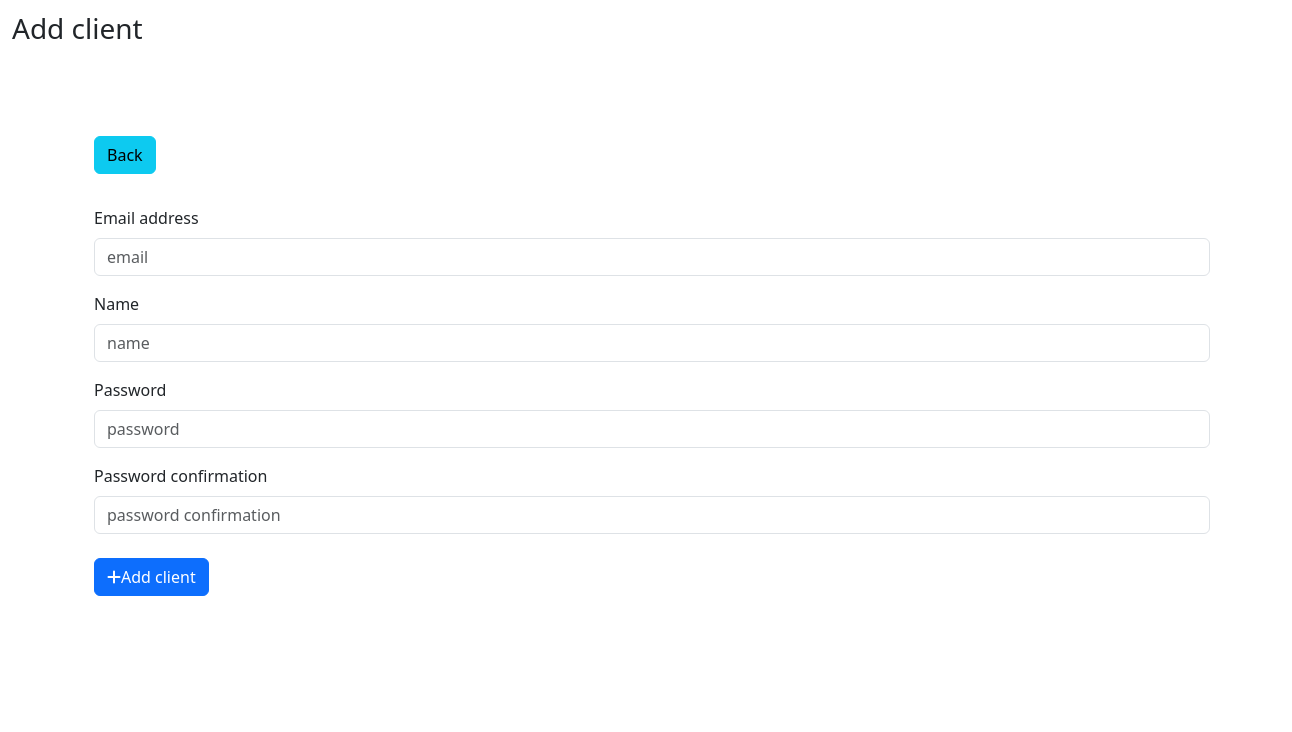
Test case: User edit page › Interactions › add client by click
Type "aaaabb@example.com" into the field with placeholder "Email" at (652, 257), box [94,238,1210,276]
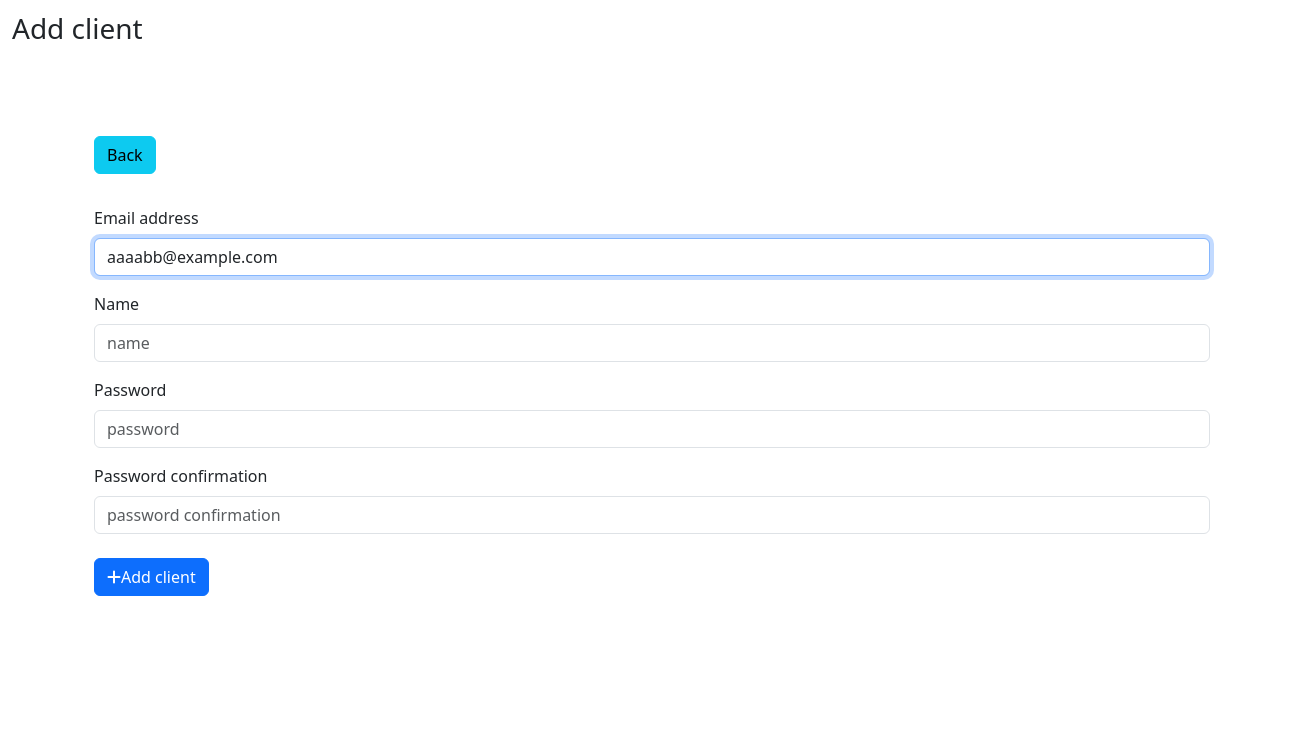
Type "aaaaaaaaaaaaa" into the field with placeholder "Name" at (652, 343), box [94,324,1210,362]
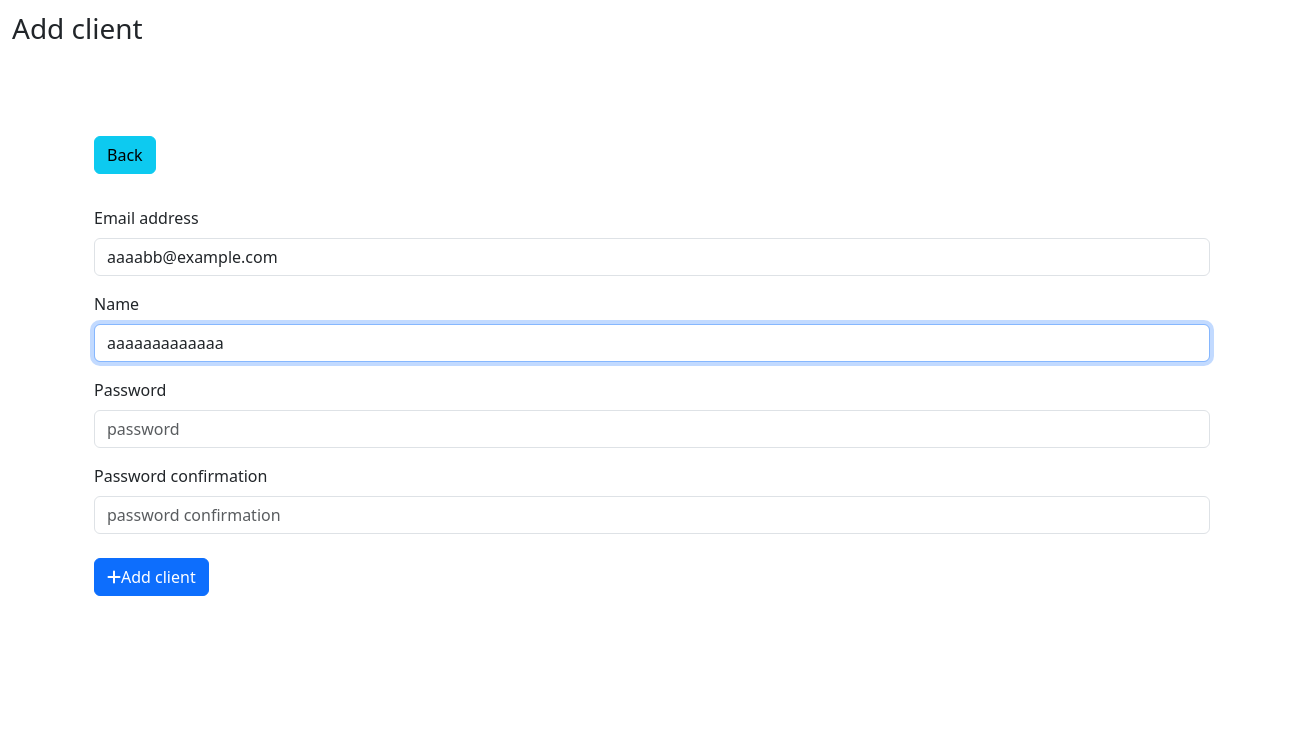
Type "abc2" into the password field with placeholder "Password" at (652, 429), box [94,410,1210,448]
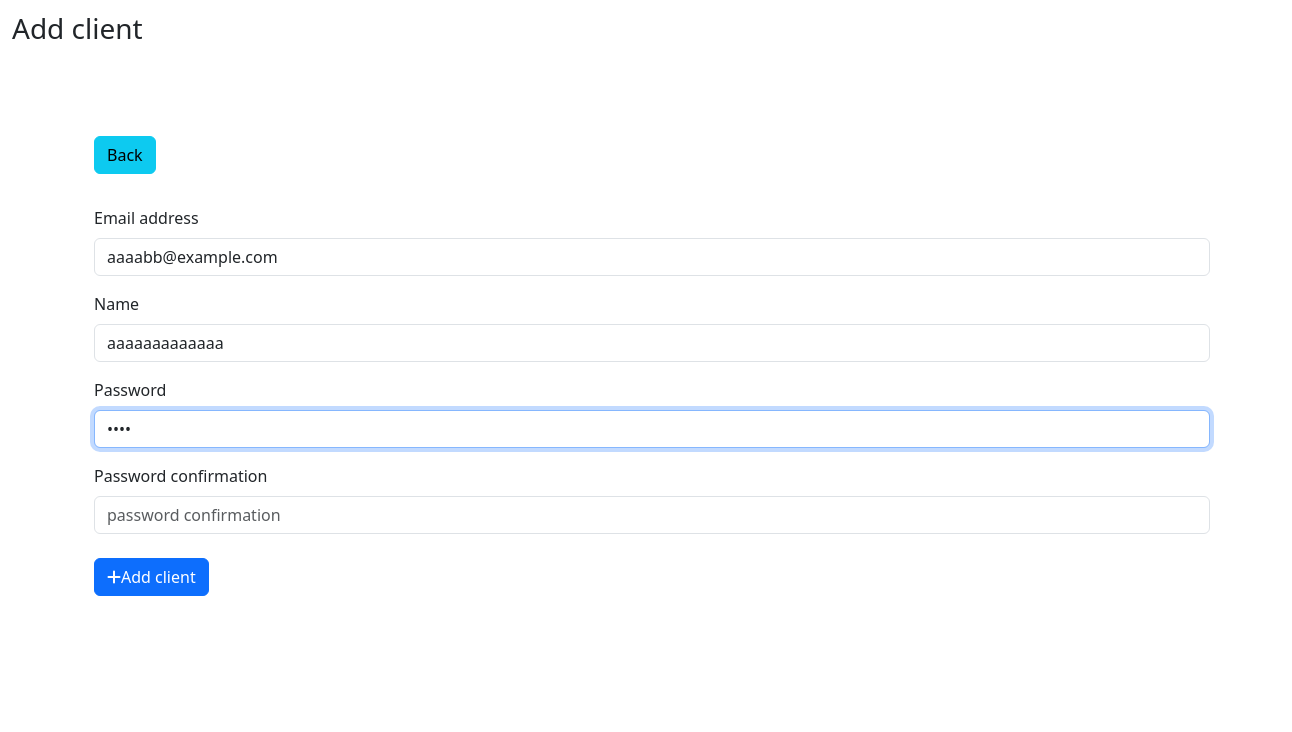
Type "abc2" into the password field with placeholder "Password confirmation" at (652, 515), box [94,496,1210,534]
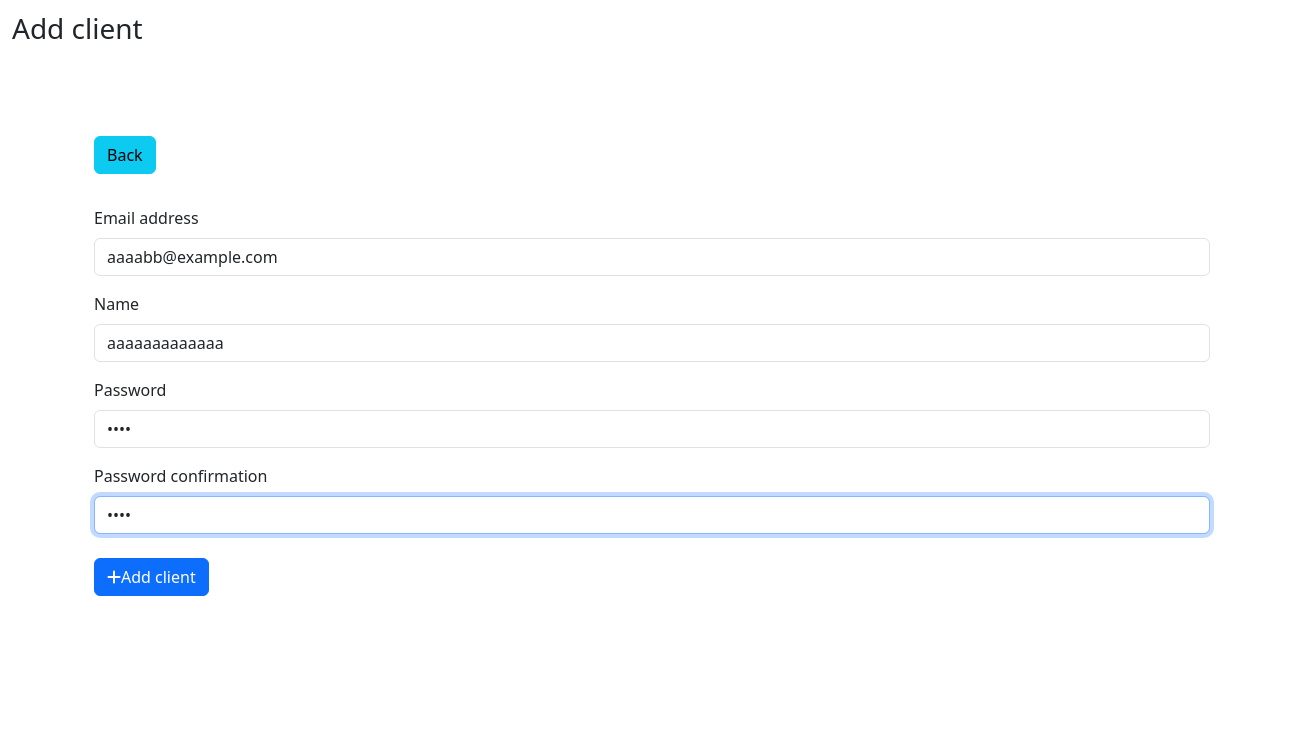
Click the button "Add client" at (151, 577), box [94,558,209,596]
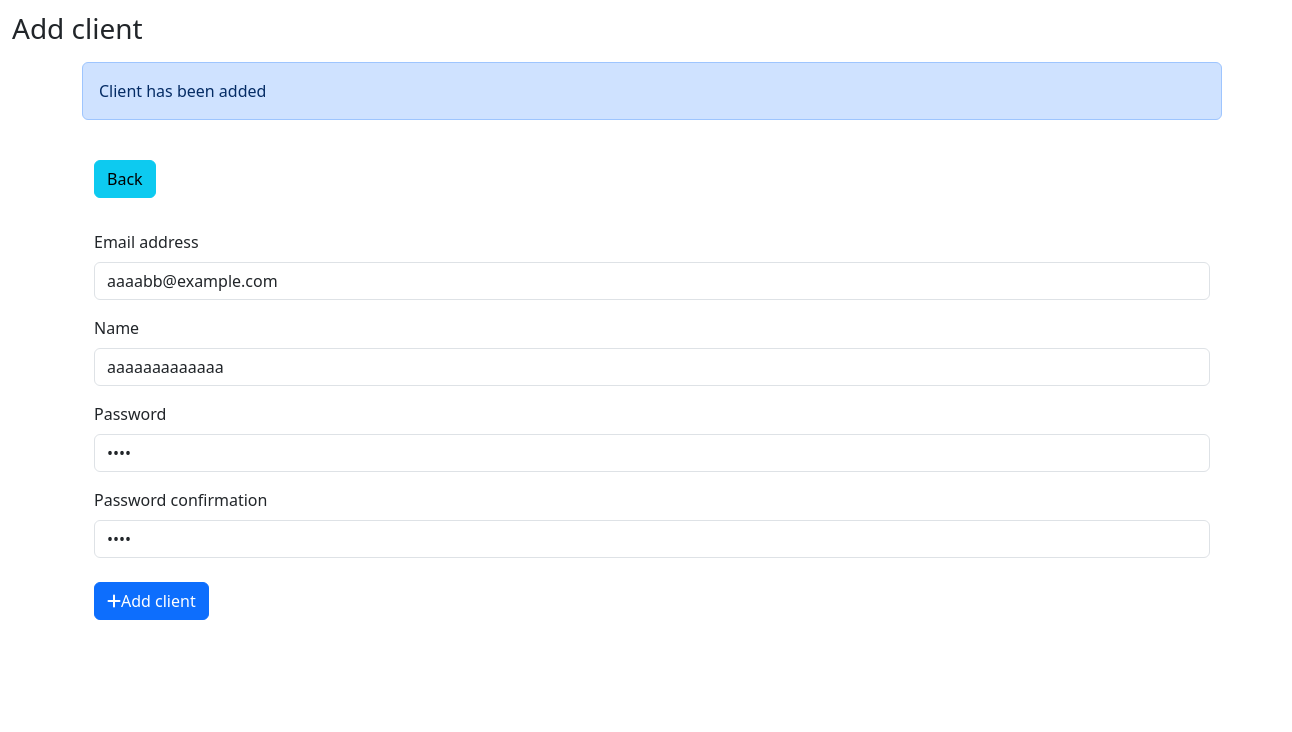
Expected: the text "Client has been added" is shown, [82,62,1222,120]
